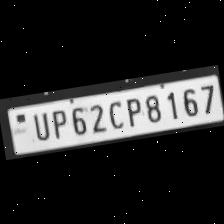1: (160, 88, 181, 122)
2: (85, 98, 108, 134)
6: (64, 103, 90, 136), (176, 85, 201, 119)
7: (196, 81, 220, 115)
8: (140, 90, 164, 125)
C: (103, 96, 127, 131)
P: (45, 106, 69, 140), (120, 94, 144, 128)
U: (27, 109, 51, 142)
